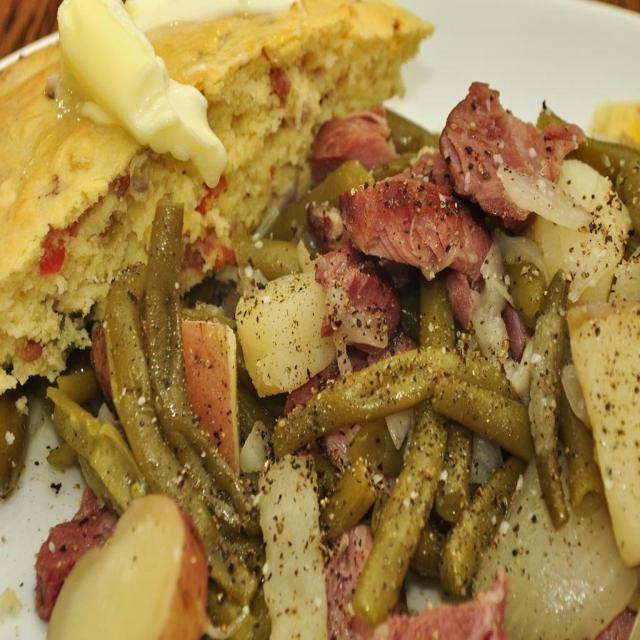Potato: (47, 492, 207, 640), (91, 322, 241, 477), (566, 302, 640, 566), (234, 270, 338, 395)
